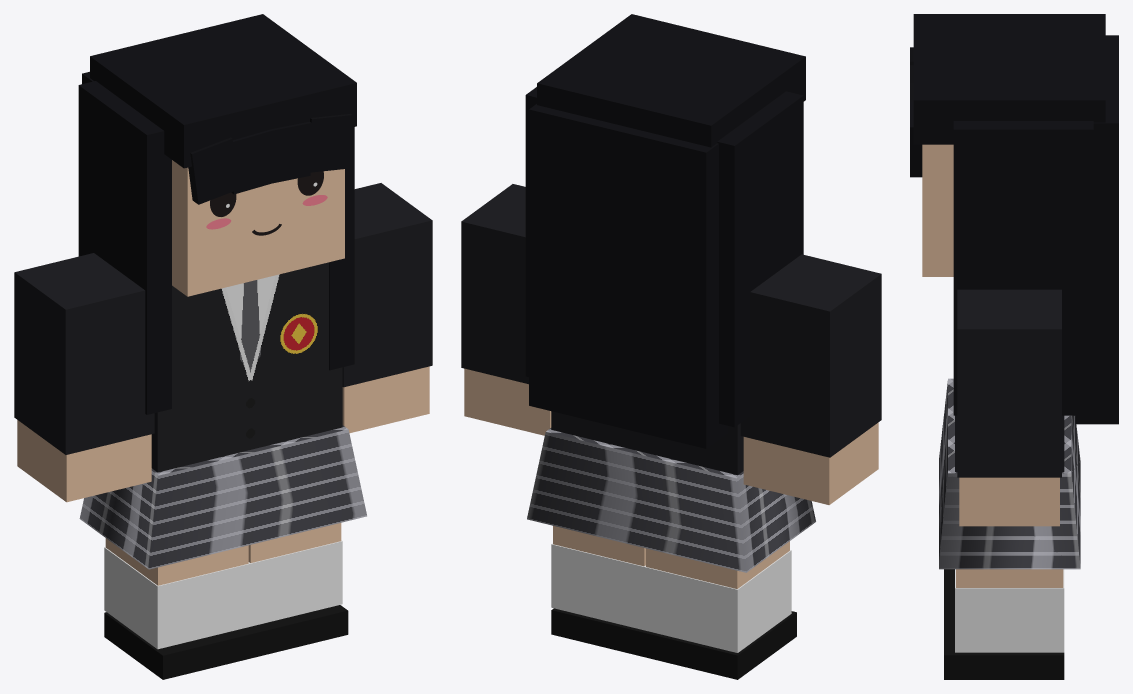
File: uniform_girl.glb
3 renders of one model, left to right at view 1: azimuth 30°, elevation 25°; view 2: azimuth 150°, elevation 25°; view 3: azimuth 270°, elevation 25°, orthographic. The views are drawn at different scales.
Parts seen in each view (by area): view 1: head, torso, arm_R, arm_L, leg_R, leg_L, face; view 2: head, arm_R, torso, leg_R, arm_L, leg_L; view 3: head, arm_L, leg_L, torso, leg_R.
Part boxes in pixels (x1=…): head: x1=78, y1=14, x2=356, y2=414; torso: x1=79, y1=262, x2=366, y2=569; arm_R: x1=14, y1=253, x2=154, y2=502; arm_L: x1=342, y1=183, x2=432, y2=433; leg_R: x1=104, y1=538, x2=255, y2=679; leg_L: x1=248, y1=523, x2=348, y2=657; face: x1=206, y1=171, x2=327, y2=235; head: x1=525, y1=14, x2=805, y2=448; arm_R: x1=740, y1=254, x2=881, y2=504; torso: x1=527, y1=411, x2=815, y2=572; leg_R: x1=644, y1=541, x2=796, y2=679; arm_L: x1=461, y1=184, x2=551, y2=435; leg_L: x1=551, y1=526, x2=646, y2=656; head: x1=910, y1=14, x2=1118, y2=424; arm_L: x1=957, y1=289, x2=1061, y2=526; leg_L: x1=944, y1=569, x2=1064, y2=679; torso: x1=939, y1=378, x2=1080, y2=569; leg_R: x1=944, y1=569, x2=954, y2=608.
Size of the model in its own units: 0.99 by 1.46 by 0.478.
Materials: 10 (3 with a texture image).
